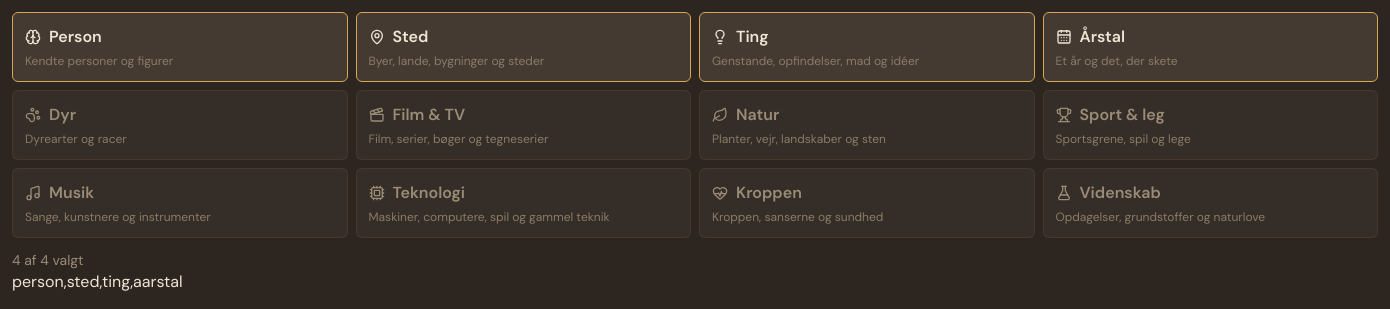
it: CategoryPicker › swaps a category by deselecting one and selecting another
Expected: the text "4 af 4 valgt" is shown, [12,250,84,270]
Click the button "Dyr Dyrearter og racer".
click(76, 139)  # box [12,90,348,160]
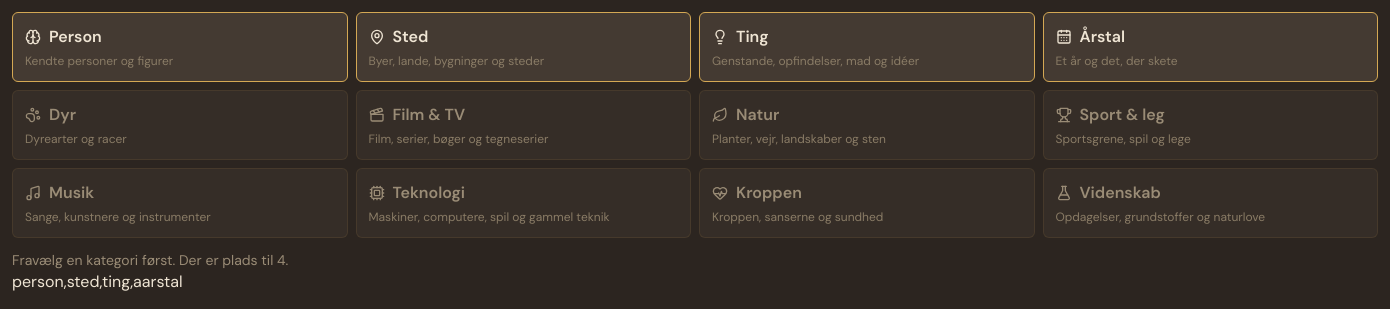
Expected: the text with test id "value" reads "person,sted,ting,aarstal", [12,271,183,292]
Expected: the text "Fravælg en kategori først. Der er plads til 4." is shown, [12,250,288,270]
Click the button "Årstal Et år og det, der skete".
click(1102, 36)  # box [1042,12,1378,82]
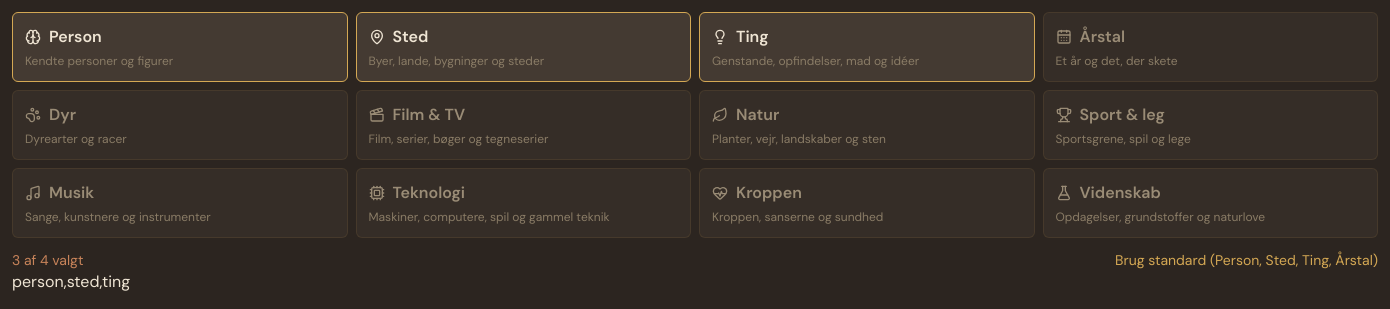
Click the button "Dyr Dyrearter og racer".
click(76, 139)  # box [12,90,348,160]
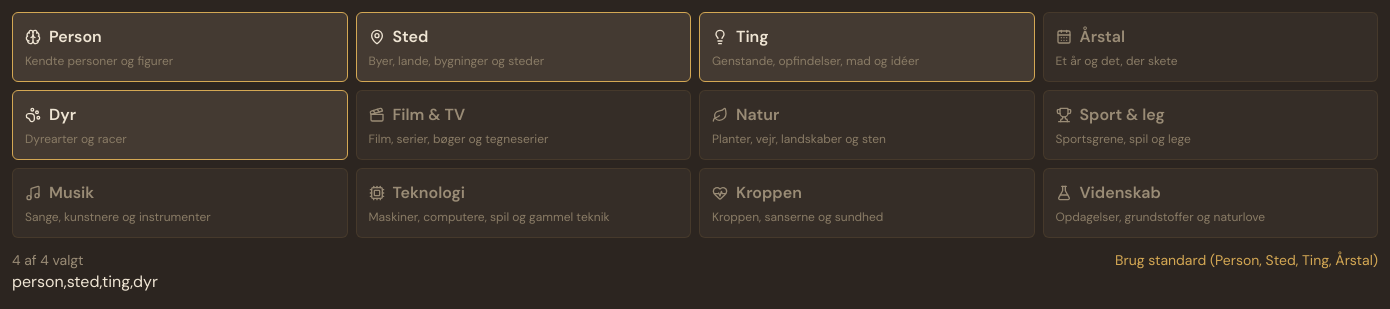
Expected: the text with test id "value" reads "person,sted,ting,dyr", [12,271,158,292]
